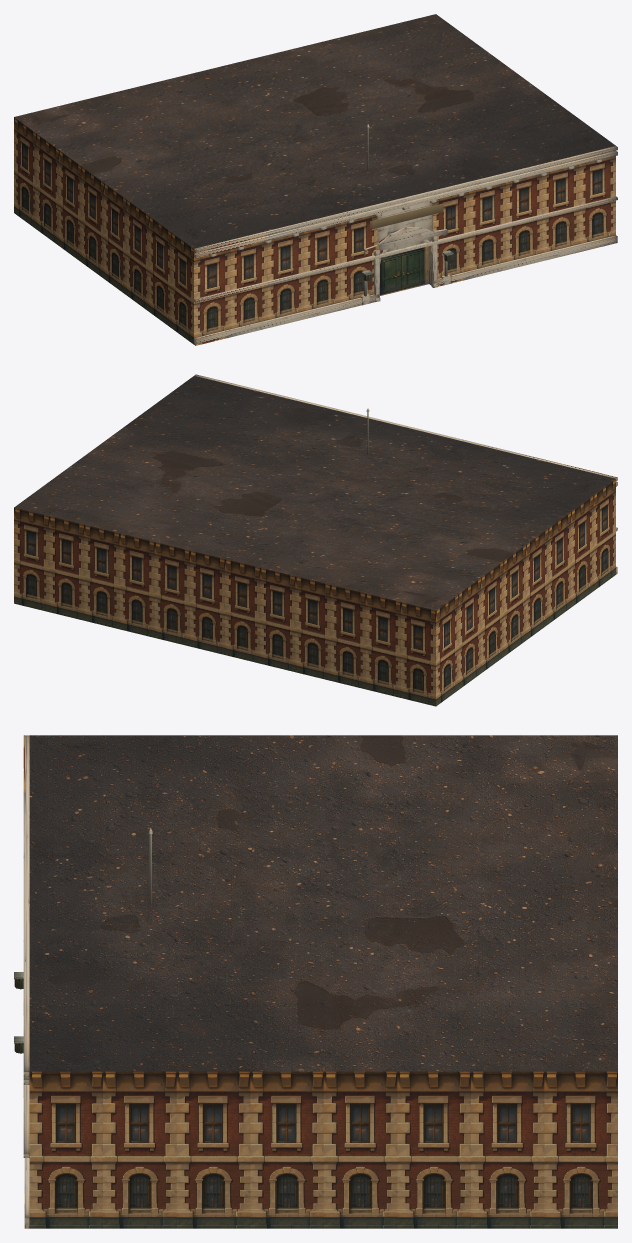
The model's file is LM_PoliceStation.fbx.
3 views of the same model, one above another, from view 1: azimuth 30°, elevation 25°; view 2: azimuth 150°, elevation 25°; view 3: azimuth 270°, elevation 25° (orthographic). The views are drawn at different scales.
Parts seen in each view (by area): view 1: LM_PoliceStation; view 2: LM_PoliceStation; view 3: LM_PoliceStation.
Part boxes in pixels (x1,y1,x2,y2): LM_PoliceStation: [14, 14, 617, 345]; LM_PoliceStation: [14, 374, 617, 706]; LM_PoliceStation: [14, 735, 617, 1228].
Bounding box in the file's own units: 46 × 34.9 × 14.85.
Materials: 1 (1 with a texture image).
